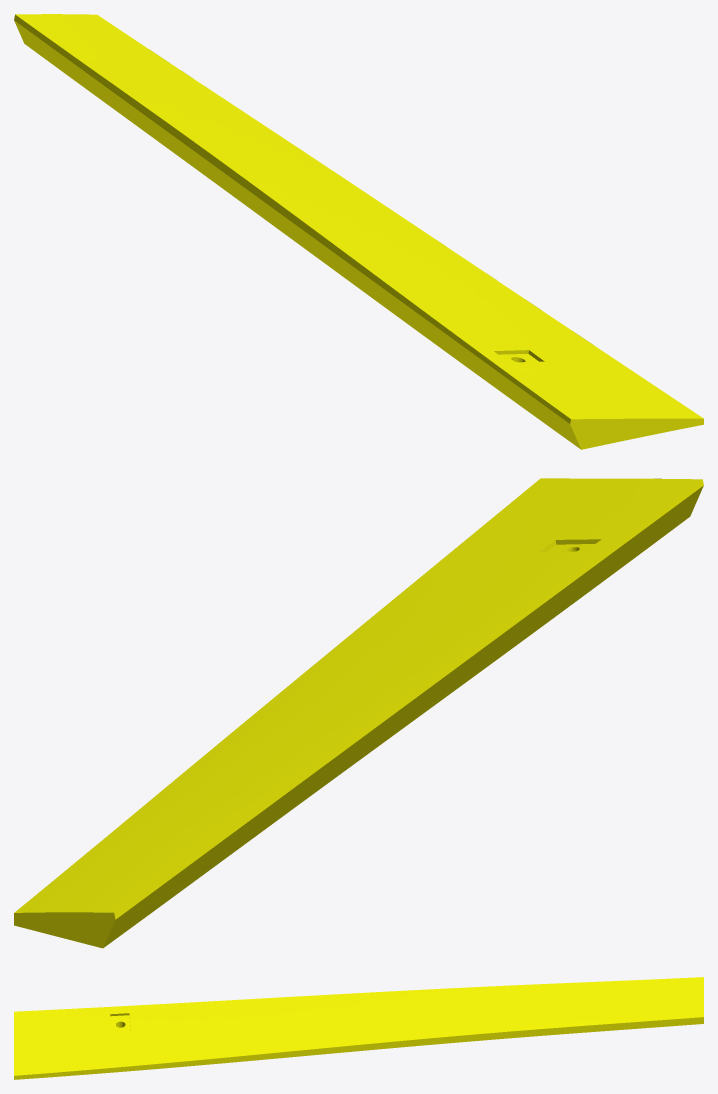
Rendered from believer_aileron_right.dae.
3 renders of one model, top to bottom at view 1: azimuth 30°, elevation 25°; view 2: azimuth 150°, elevation 25°; view 3: azimuth 270°, elevation 25°, orthographic. The views are drawn at different scales.
Parts seen in each view (by area): view 1: ID2; view 2: ID2; view 3: ID2.
Boxes of the visible parts, bbox=[...] form: ID2: bbox=[14, 14, 703, 449]; ID2: bbox=[14, 478, 703, 948]; ID2: bbox=[14, 977, 703, 1079].
Bounding box in the file's own units: 0.0677 × 0.356 × 0.0272.
